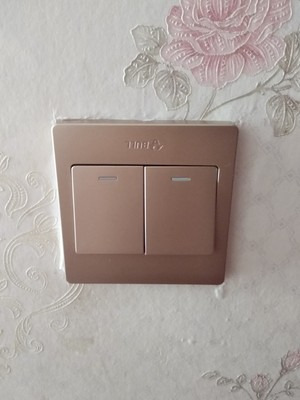switch: (68, 159, 149, 259), (139, 159, 218, 261)
